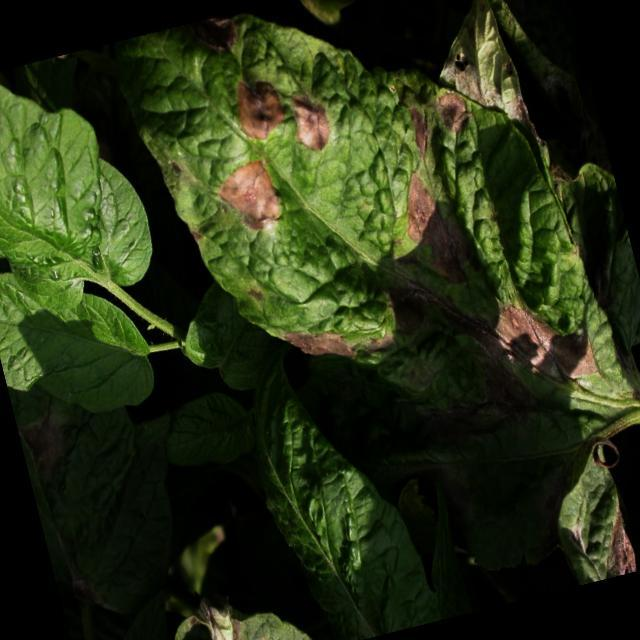Tomato healthy leaf: (0, 44, 162, 328), (0, 242, 160, 436)
Tomato late blight leaf: (116, 0, 640, 540), (6, 351, 206, 640)
